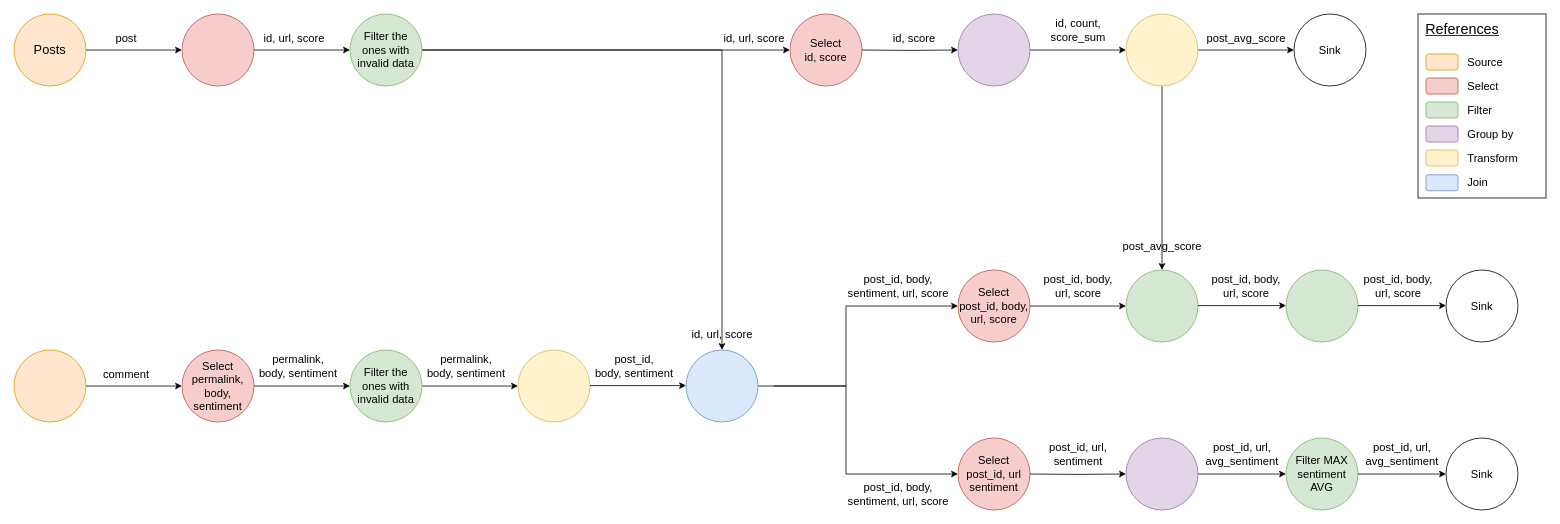
This 1560x524 diagram has some shape labels left out. Here are the shapes that lost their labels. From the top down, the centre of each, then its label:
At point 217,49: "Select id, url, score".
At point 993,49: "Group all and Count and sum scores".
At point 1161,49: "Calculate total AVG score".
At point 1161,305: "Filter score > avg".
At point 1321,305: "Filter body includes student keywords".
At point 49,385: "Comments".
At point 553,385: "Parse permalink to post_id".
At point 721,385: "Join by post_id".
At point 1161,473: "Group by post_id and calculate AVG sentiment".
